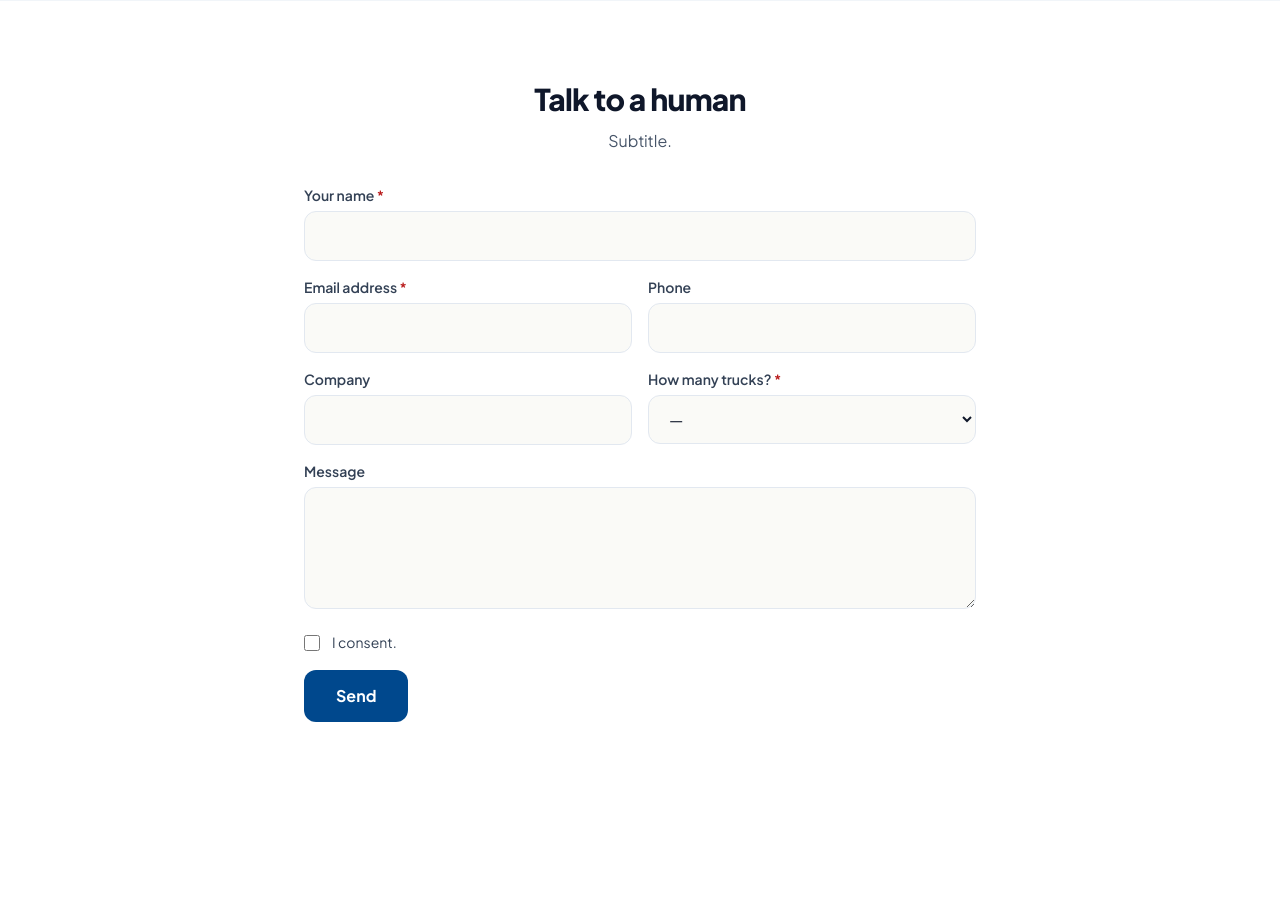
Test case: ContactForm › rejects invalid email format
Type "Ali" into the field labelled "Your name *".
click(640, 236); type("Ali")  # box [304,211,976,261]
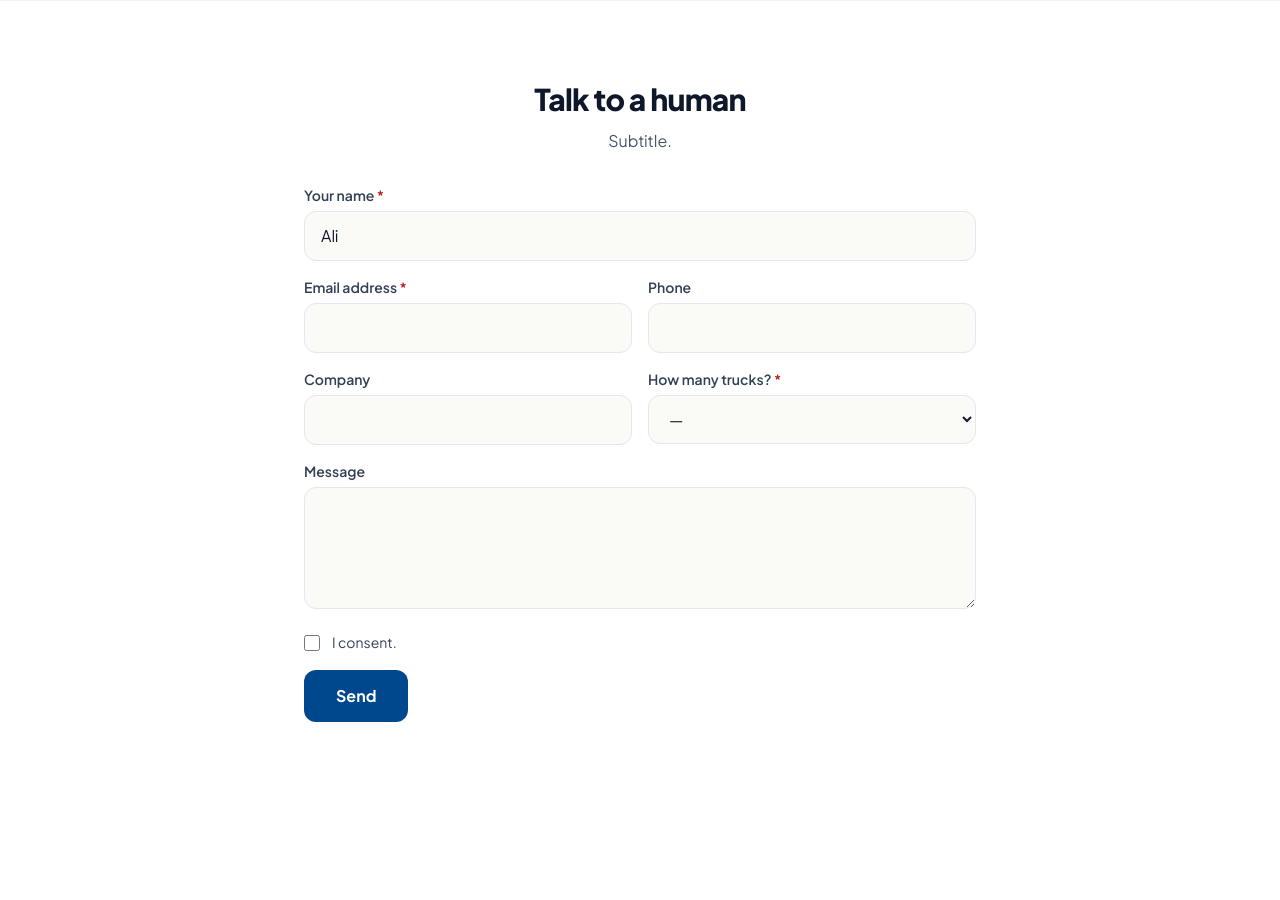
Type "not-an-email" into the field labelled "Email address *".
click(468, 328); type("not-an-email")  # box [304,303,632,353]
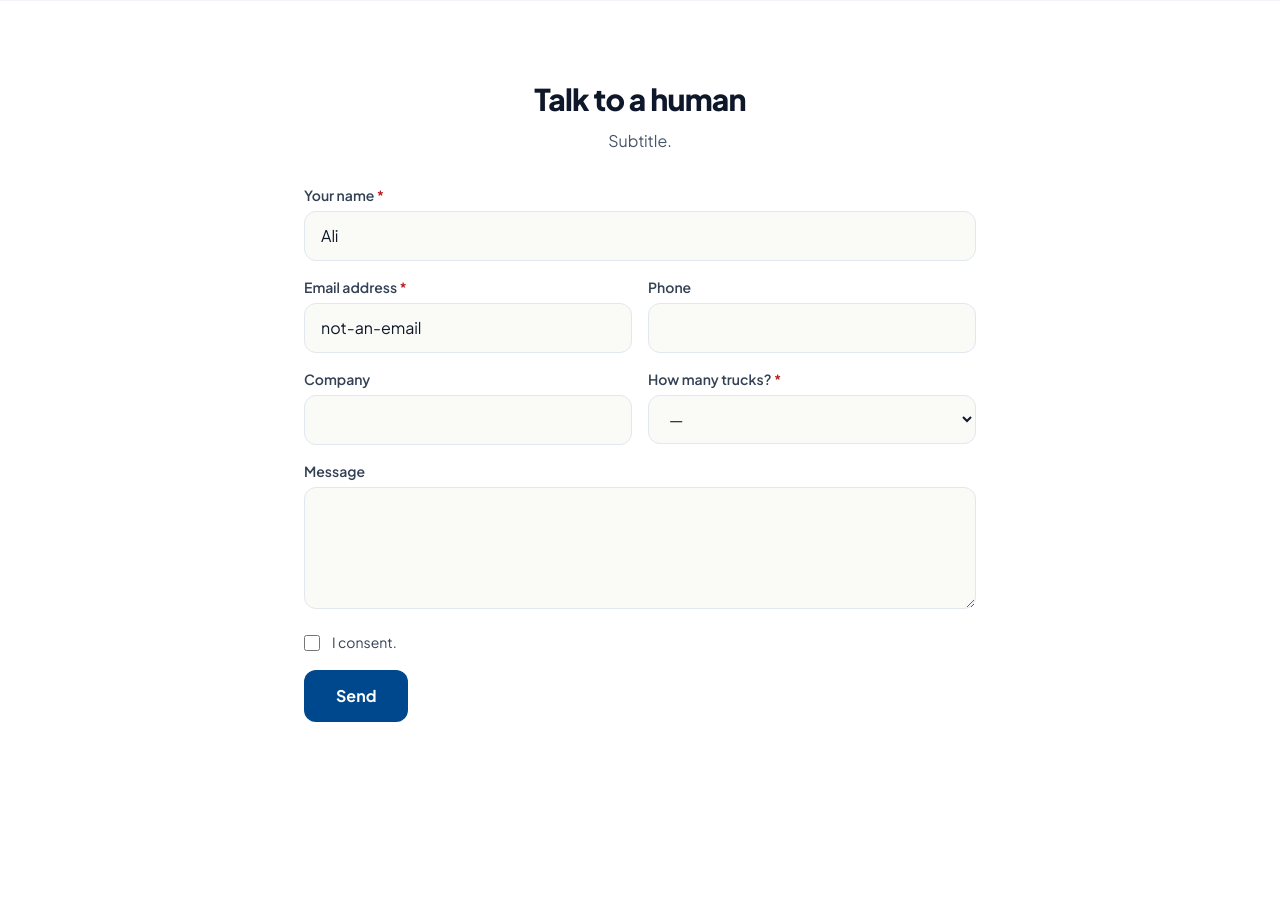
Select "6-25" in the dropdown labelled "How many trucks? *" at x=812, y=420, box [648,395,976,444]
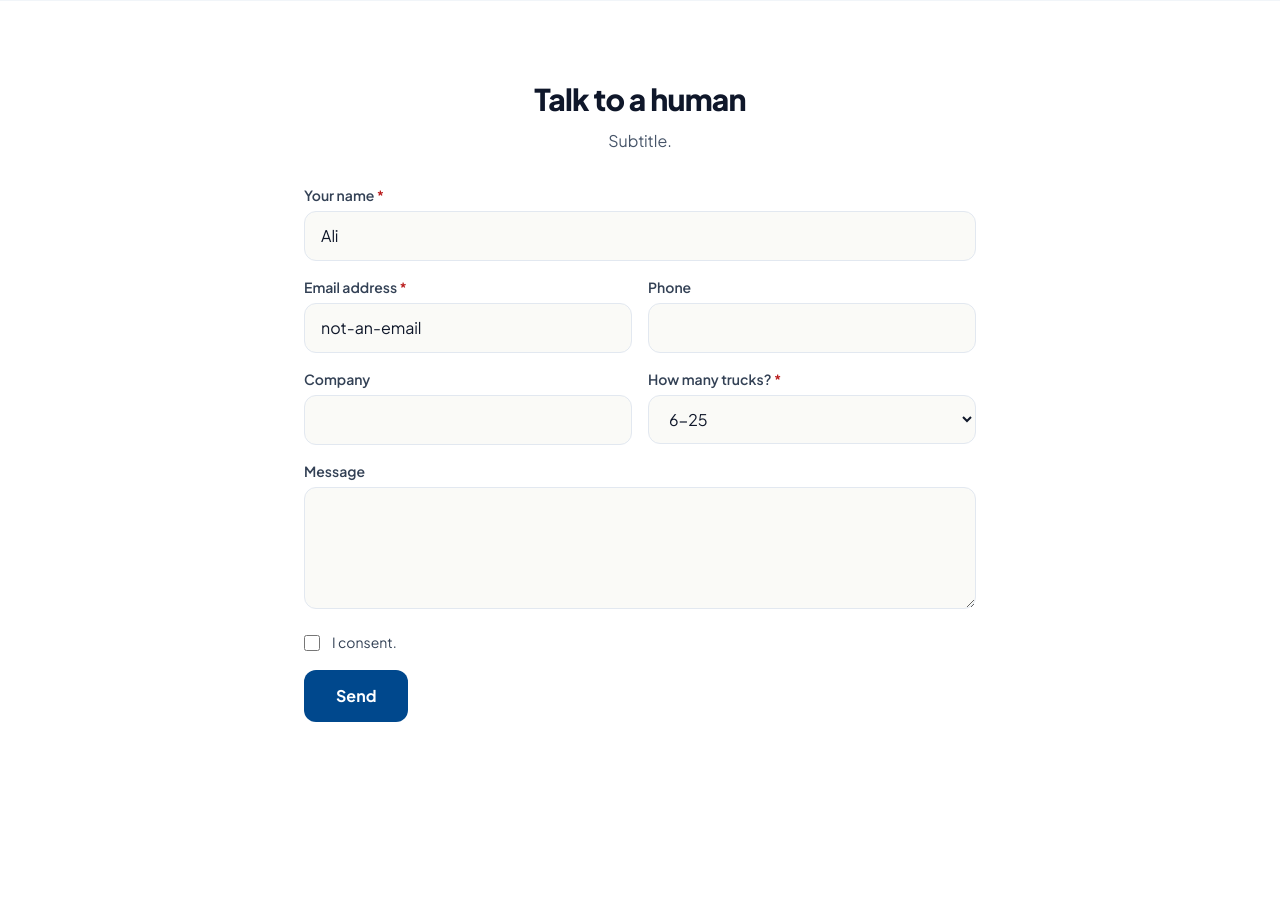
Click the checkbox labelled "I consent.".
click(312, 643)  # box [304,635,320,651]
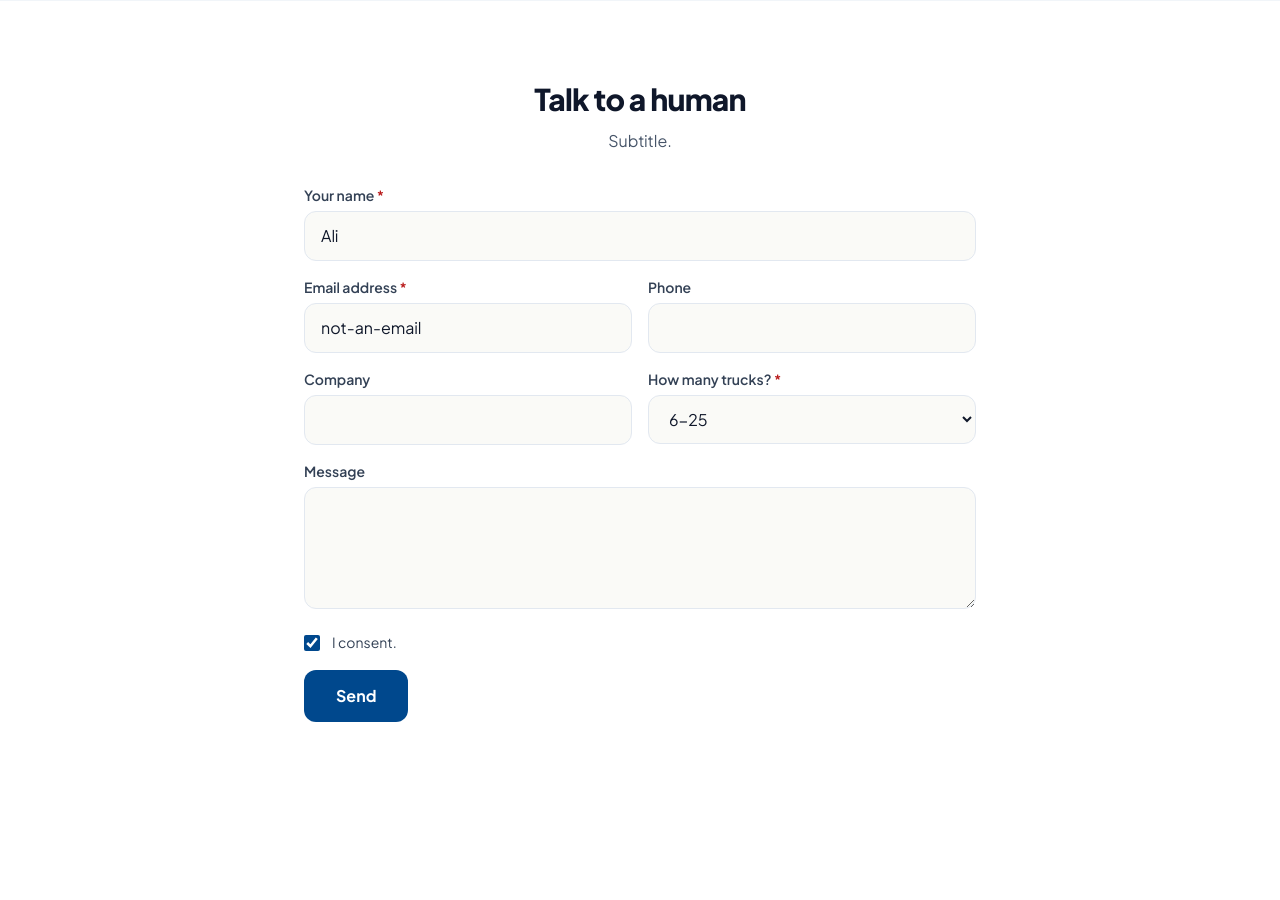
Click the button "Send".
click(356, 696)  # box [304,670,408,722]
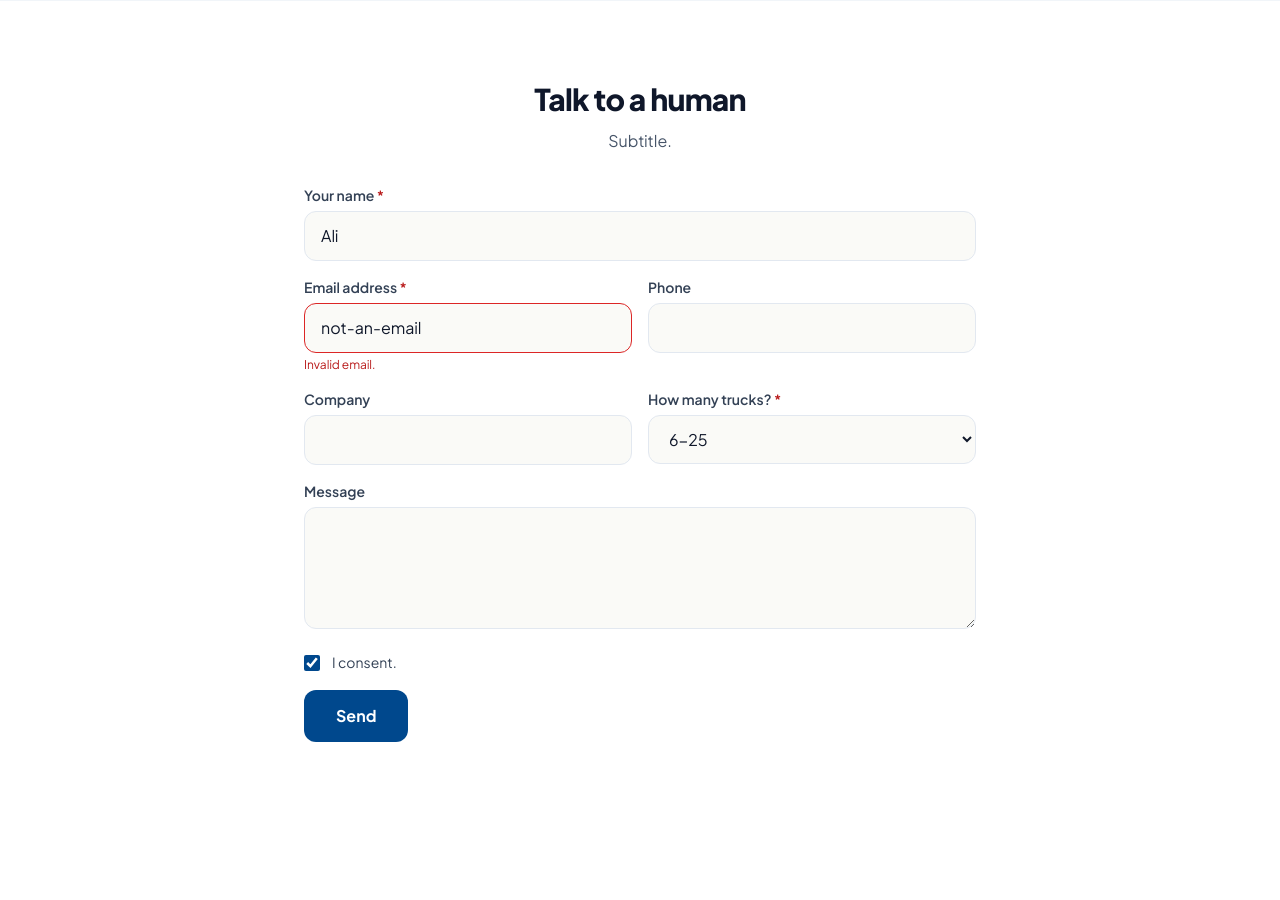
Expected: the text "Invalid email." is shown, [304,357,376,372]
